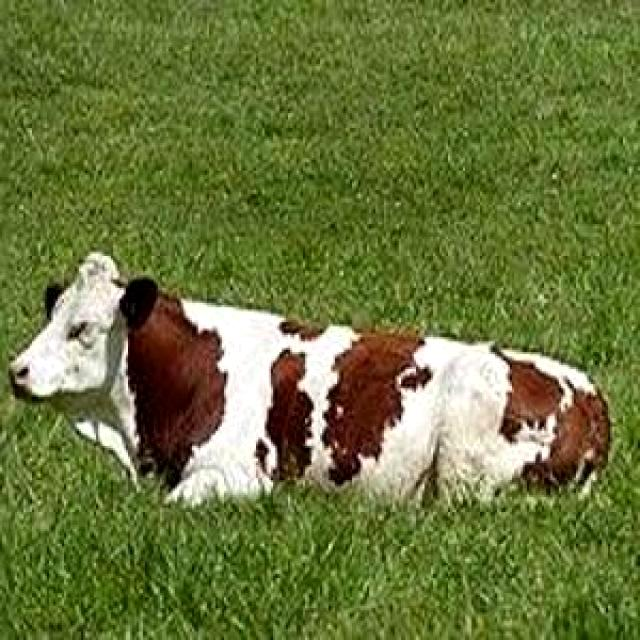COW: (10, 252, 608, 504)
